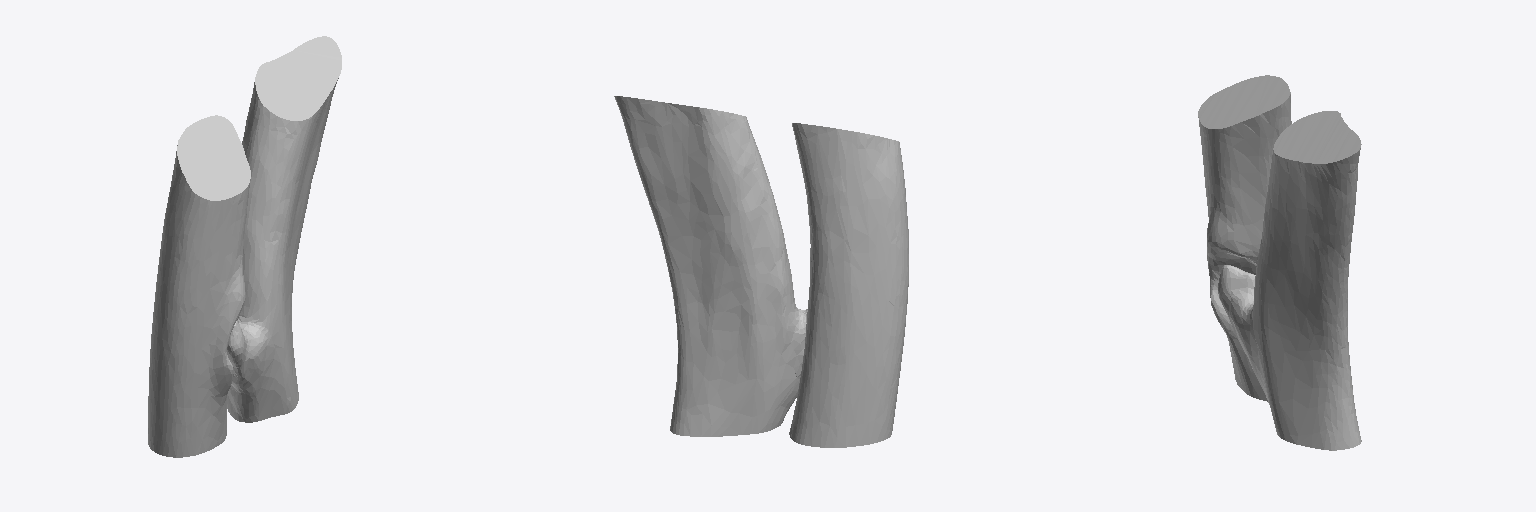
The model's file is totoro03.obj.
The picture shows the model from 3 angles: view 1: azimuth 30°, elevation 25°; view 2: azimuth 150°, elevation 25°; view 3: azimuth 270°, elevation 25°; orthographic projection.
Bounding box in the file's own units: 46.22 × 62.11 × 28.02.